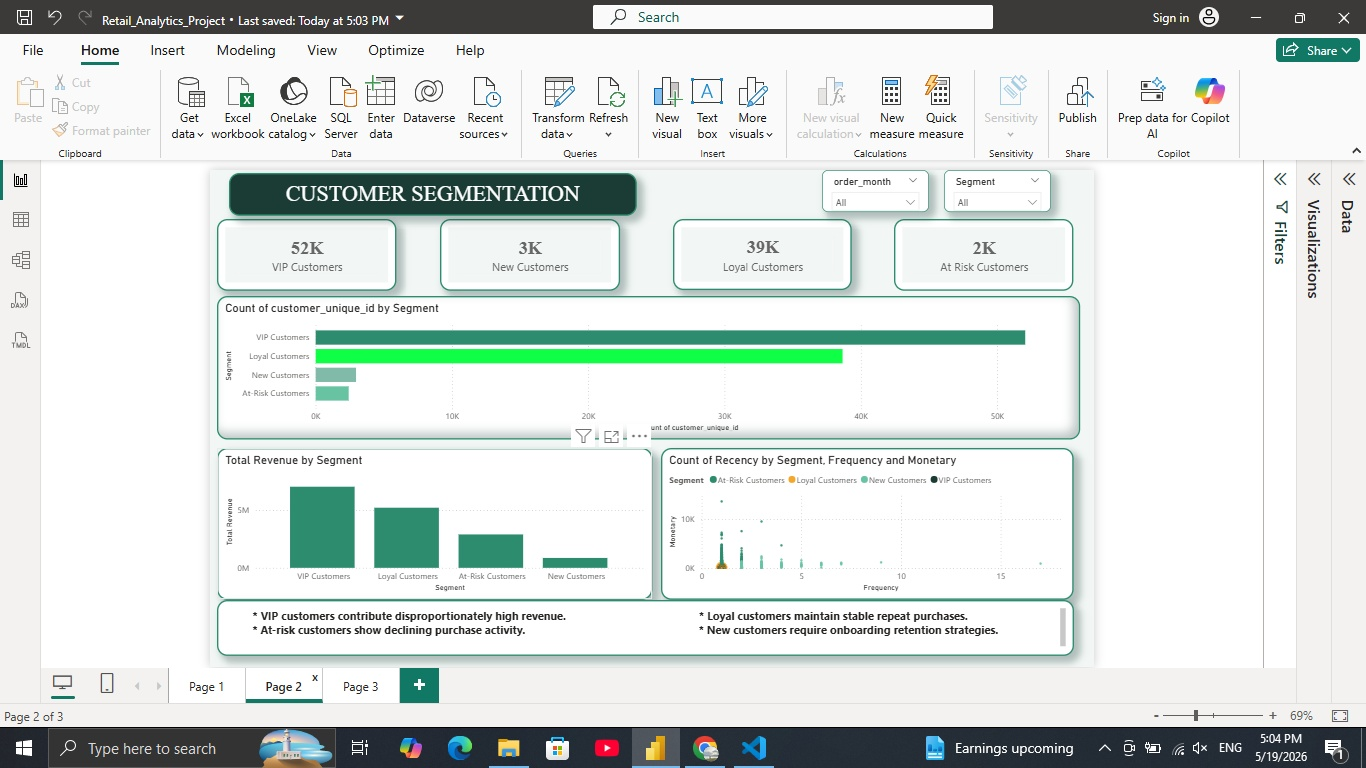

The page's visual inventory and layout, read from the dashboard file:
{"tool":"powerbi","page":{"name":"Page 2","canvas":[1280,720],"ordinal":1},"visuals":[{"type":"cardVisual","fields":{"Data":["customer_segments.VIP Customers"]},"box":[10,71.4,260,104],"z":0},{"type":"cardVisual","fields":{"Data":["customer_segments.New Customers"]},"box":[333.1,70.9,260.8,104],"z":1000},{"type":"cardVisual","fields":{"Data":["customer_segments.Loyal Customers"]},"box":[670.4,70.9,259.4,103.5],"z":2000},{"type":"cardVisual","fields":{"Data":["customer_segments.At Risk Customers"]},"box":[991.4,71.4,260,104],"z":3000},{"type":"barChart","fields":{"Category":["customer_segments.Segment"],"Y":["CountNonNull(customer_segments.customer_unique_id)"]},"box":[9.9,182.8,1251.5,208.3],"z":4000},{"type":"columnChart","fields":{"Category":["customer_segments.Segment"],"Y":["master_dataset.Total Revenue"]},"box":[9.9,402.5,630.7,219.7],"z":5000},{"type":"scatterChart","fields":{"X":["customer_segments.Frequency"],"Y":["customer_segments.Monetary"],"Series":["customer_segments.Segment"],"Size":["CountNonNull(customer_segments.Recency)"]},"box":[653.4,403.1,598,220.1],"z":6000},{"type":"textbox","box":[9.9,623.6,1241.6,80.8],"z":7000},{"type":"slicer","fields":{"Values":["customer_segments.Segment"]},"box":[1064.4,0,155,61],"z":8000},{"type":"slicer","fields":{"Values":["master_dataset.order_month"]},"box":[887.2,0,155,61],"z":9000},{"type":"textbox","box":[26.9,4.3,591,62.4],"z":10000}]}

Visuals, with their boxes on the page's 1280x720 design canvas (x1, y1, x2, y2). These are canvas units, not pixel positions in the 1366x768 screenshot, which may show the page scaled, cropped or inside an application window:
cardVisual - customer_segments.VIP Customers: bbox=(10, 71, 270, 175)
cardVisual - customer_segments.New Customers: bbox=(333, 71, 594, 175)
cardVisual - customer_segments.Loyal Customers: bbox=(670, 71, 930, 174)
cardVisual - customer_segments.At Risk Customers: bbox=(991, 71, 1251, 175)
barChart - customer_segments.Segment x CountNonNull(customer_segments.customer_unique_id): bbox=(10, 183, 1261, 391)
columnChart - customer_segments.Segment x master_dataset.Total Revenue: bbox=(10, 402, 641, 622)
scatterChart - customer_segments.Frequency x customer_segments.Monetary: bbox=(653, 403, 1251, 623)
textbox: bbox=(10, 624, 1252, 704)
slicer - customer_segments.Segment: bbox=(1064, 0, 1219, 61)
slicer - master_dataset.order_month: bbox=(887, 0, 1042, 61)
textbox: bbox=(27, 4, 618, 67)
